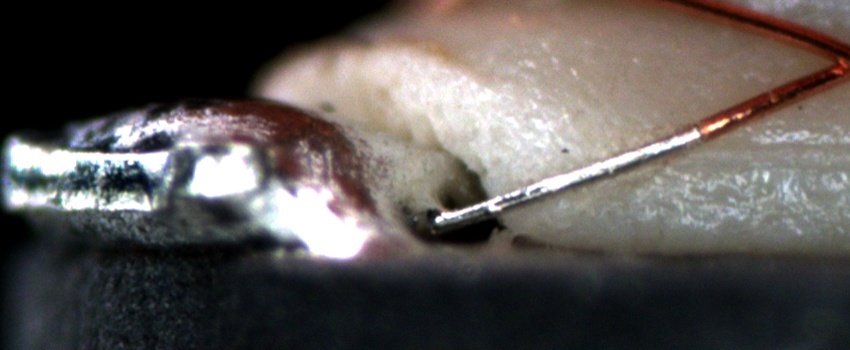CL: (802, 31, 850, 89)
DL: (677, 120, 850, 182)
TS: (437, 124, 703, 231)
